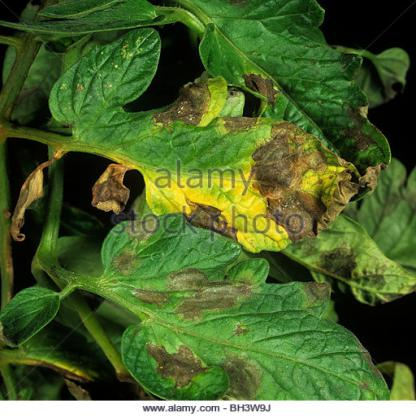tomato leaf late blight: (47, 35, 379, 254), (77, 212, 377, 401)
